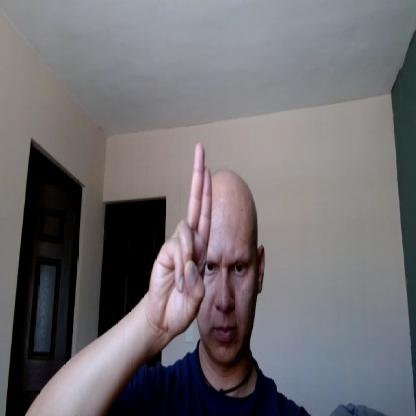U: (150, 142, 213, 332)
